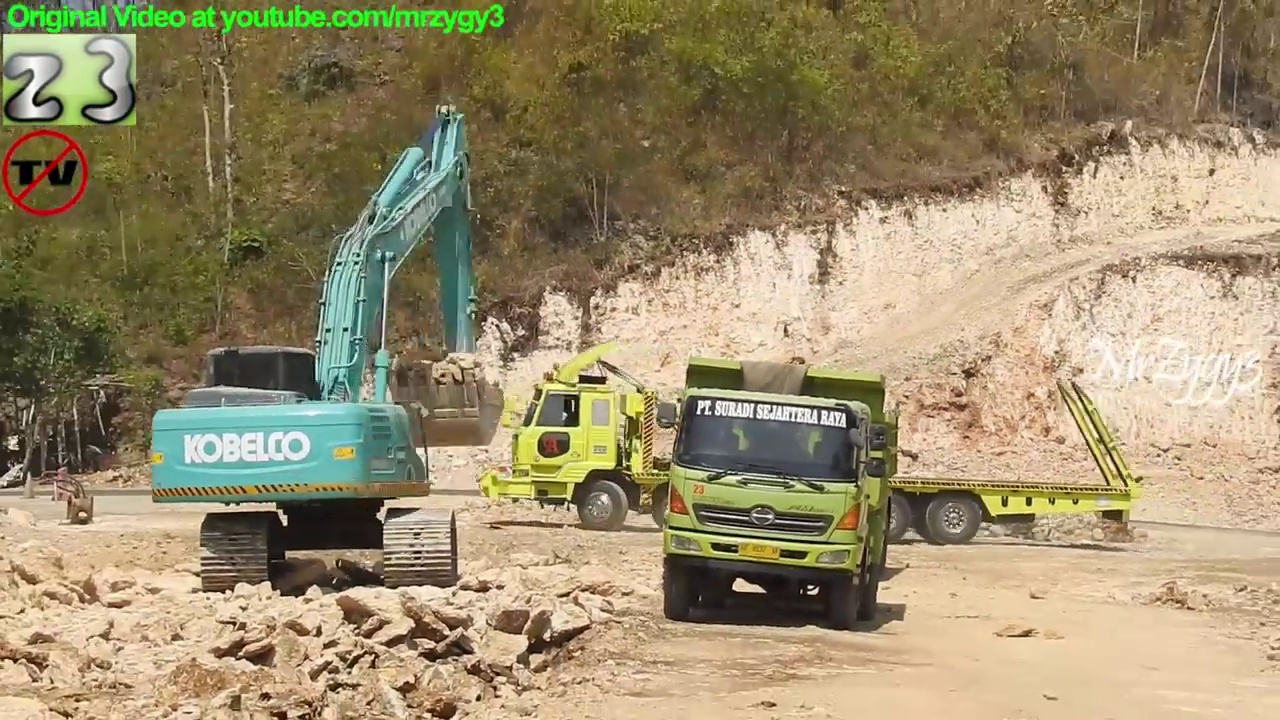excavator: (146, 100, 505, 595)
truck: (478, 337, 1144, 547), (653, 350, 903, 636)
